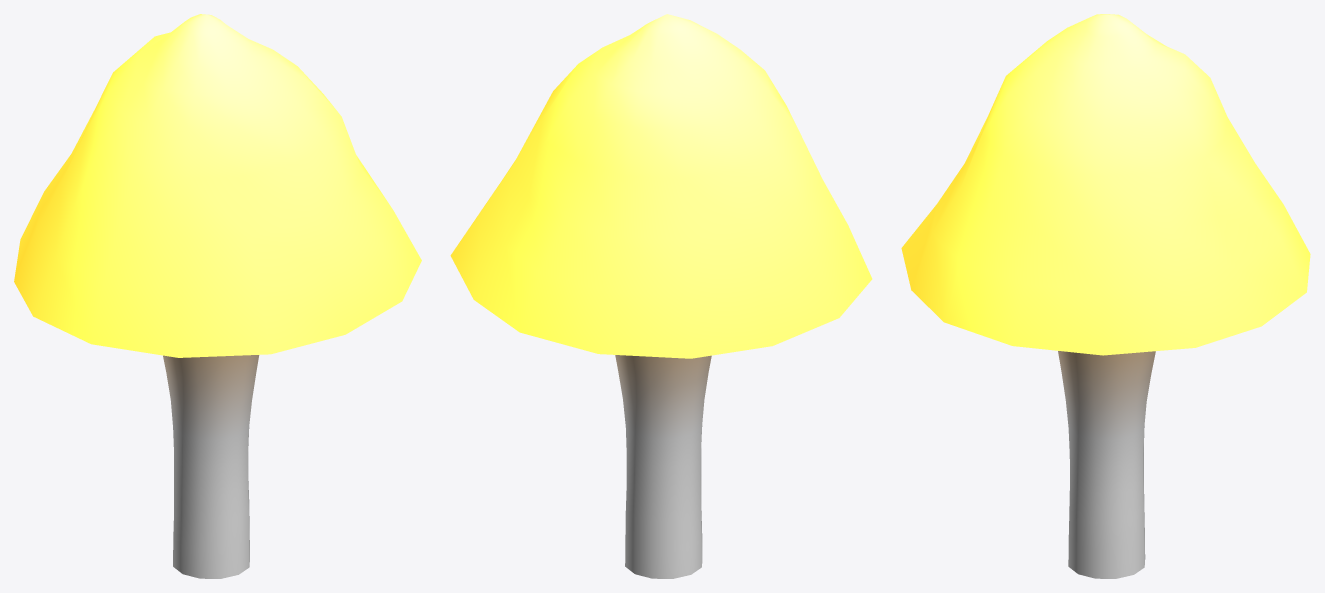
File: mushroom_4.glb
The picture shows the model from 3 angles, left to right: view 1: azimuth 30°, elevation 25°; view 2: azimuth 150°, elevation 25°; view 3: azimuth 270°, elevation 25°; orthographic projection.
Parts seen in each view (by area): view 1: geo1; view 2: geo1; view 3: geo1.
Part boxes in pixels (x1,y1,x2,y2): geo1: (14,14,421,578); geo1: (450,14,872,578); geo1: (901,14,1310,578).
Size of the model in its own units: 0.2245 by 0.3301 by 0.224.
